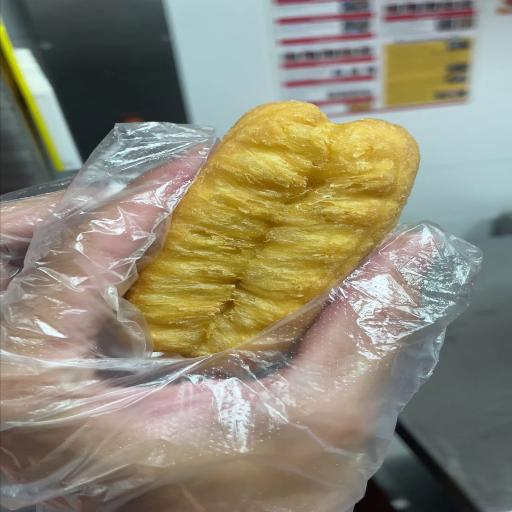brand_golden_good: (128, 101, 419, 356)
